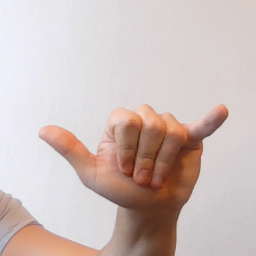Y: (33, 97, 228, 210)
